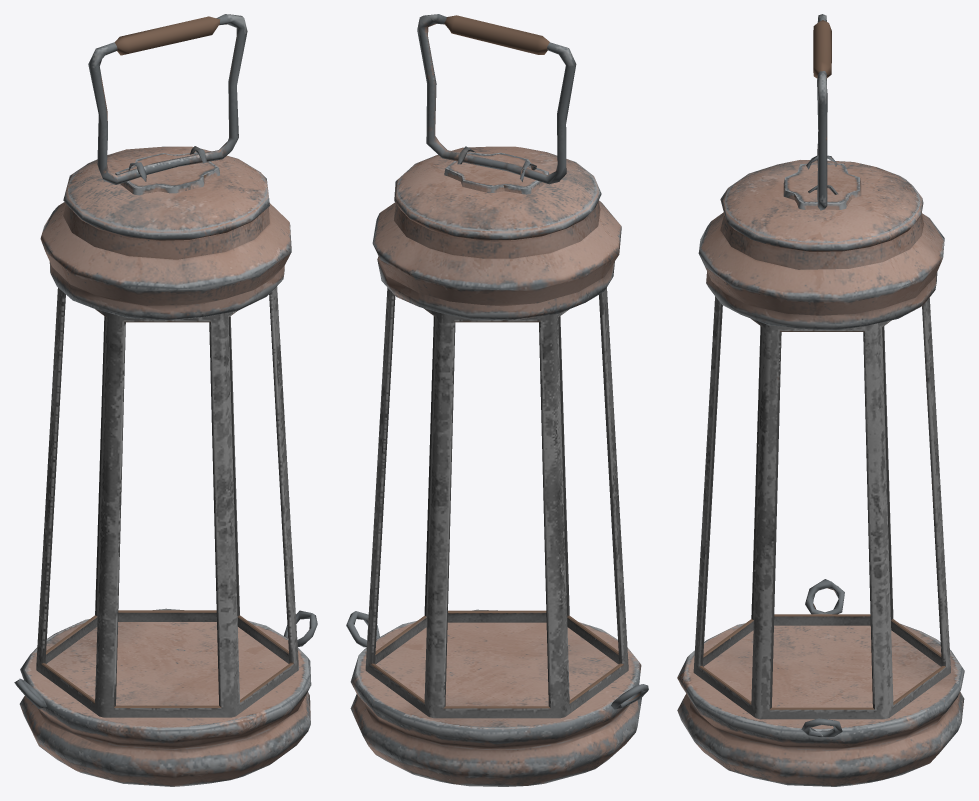
The model's file is SM_Lantern.fbx.
The picture shows the model from 3 angles, left to right: view 1: azimuth 30°, elevation 25°; view 2: azimuth 150°, elevation 25°; view 3: azimuth 270°, elevation 25°; orthographic projection. The views are drawn at different scales.
Parts seen in each view (by area): view 1: SM_Lantern_LOD0; view 2: SM_Lantern_LOD0; view 3: SM_Lantern_LOD0.
Part boxes in pixels (left/top/right/bottom): SM_Lantern_LOD0: left=14, top=14, right=317, bottom=786; SM_Lantern_LOD0: left=346, top=14, right=648, bottom=786; SM_Lantern_LOD0: left=677, top=14, right=964, bottom=786.
Bounding box in the file's own units: 20.46 × 17.6 × 46.75.
